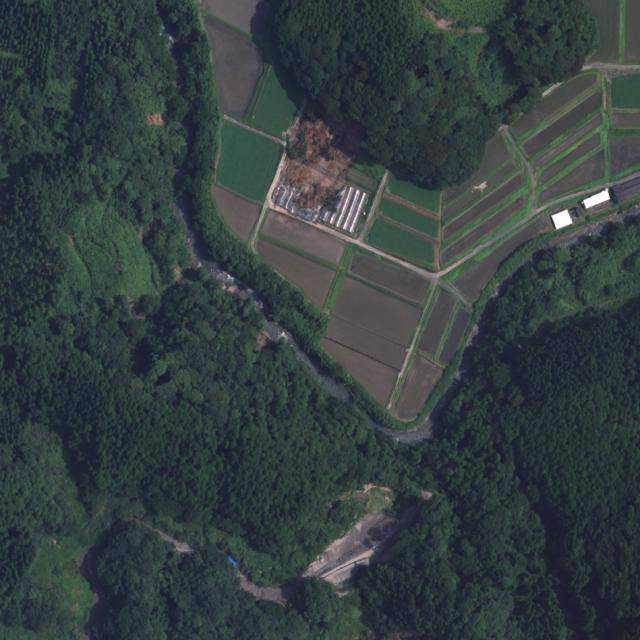landslide: (283, 119, 352, 208)
